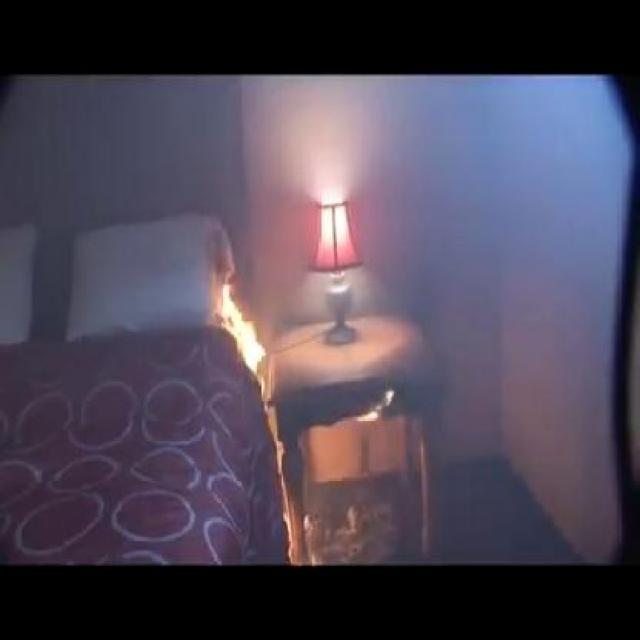fire: (214, 283, 292, 439)
